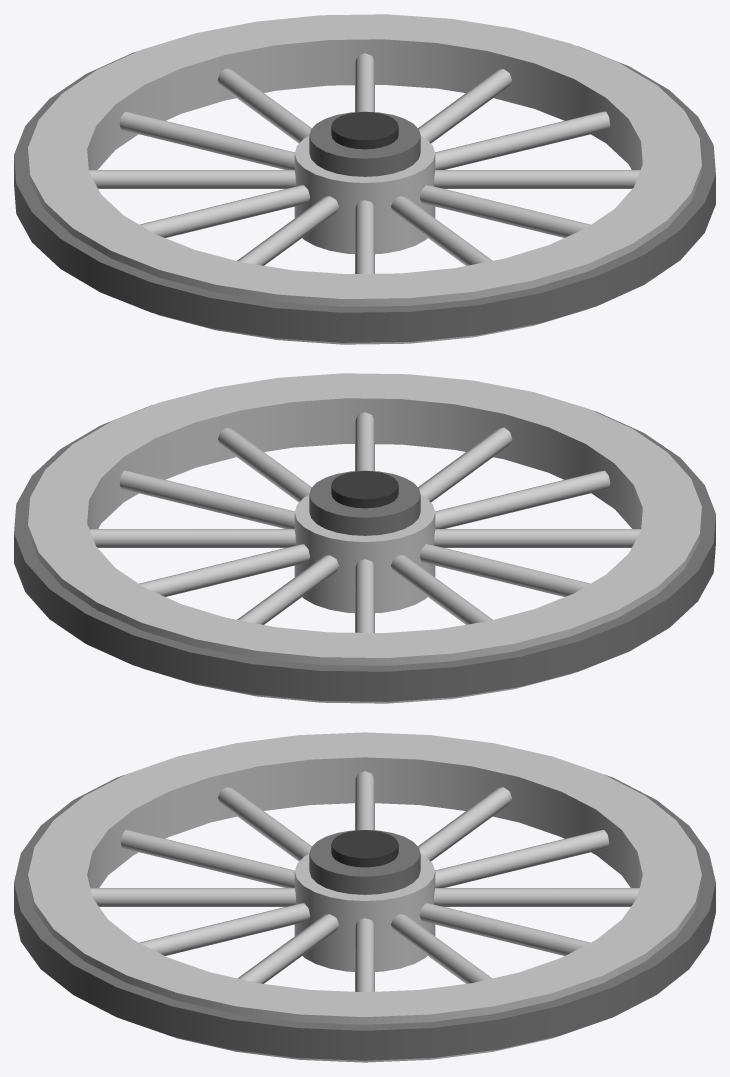
File: LunTai_MuLun_1X7.FBX
3 views of the same model, one above another, from view 1: azimuth 30°, elevation 25°; view 2: azimuth 150°, elevation 25°; view 3: azimuth 270°, elevation 25° (orthographic).
Visible parts, largest first — view 1: Box002; view 2: Box002; view 3: Box002.
Boxes of the visible parts, bbox=[...] form: Box002: bbox=[14, 14, 715, 344]; Box002: bbox=[14, 373, 715, 703]; Box002: bbox=[14, 732, 715, 1062].
Size of the model in its own units: 7 by 1.09 by 7.
